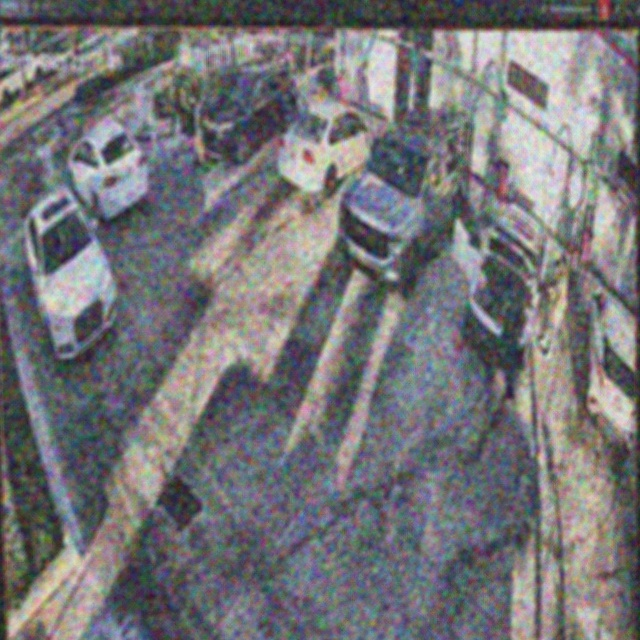Car: (341, 107, 468, 298), (462, 200, 549, 376), (197, 59, 300, 159), (279, 98, 379, 194), (68, 119, 150, 222)
